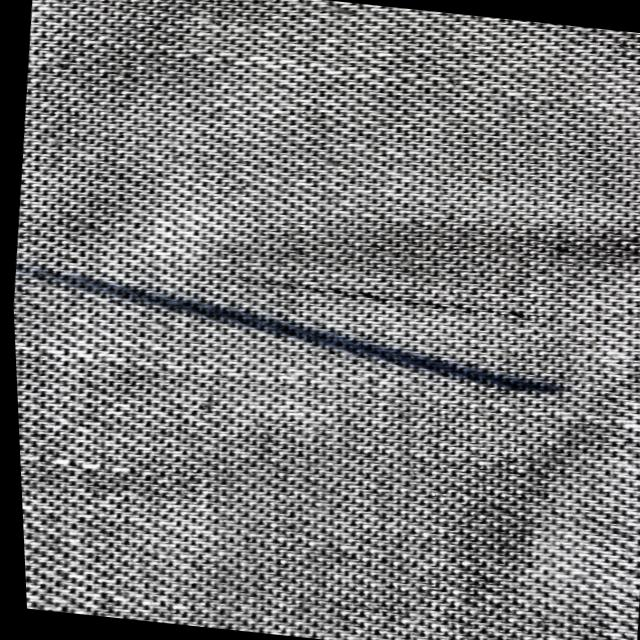Hole: (233, 264, 572, 331)
